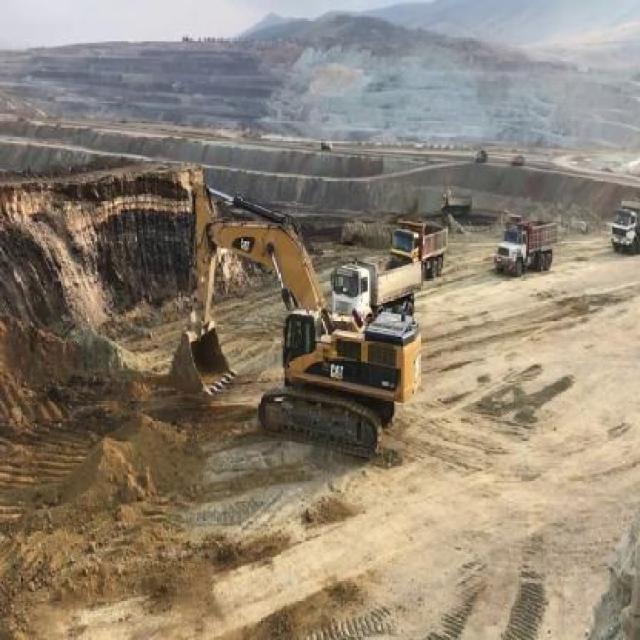dump_truck: (329, 254, 422, 318), (492, 212, 558, 277), (388, 213, 448, 279), (608, 194, 640, 255), (440, 189, 474, 214), (508, 152, 526, 166), (318, 139, 334, 152), (474, 148, 488, 161)
excavator: (168, 184, 421, 459)
